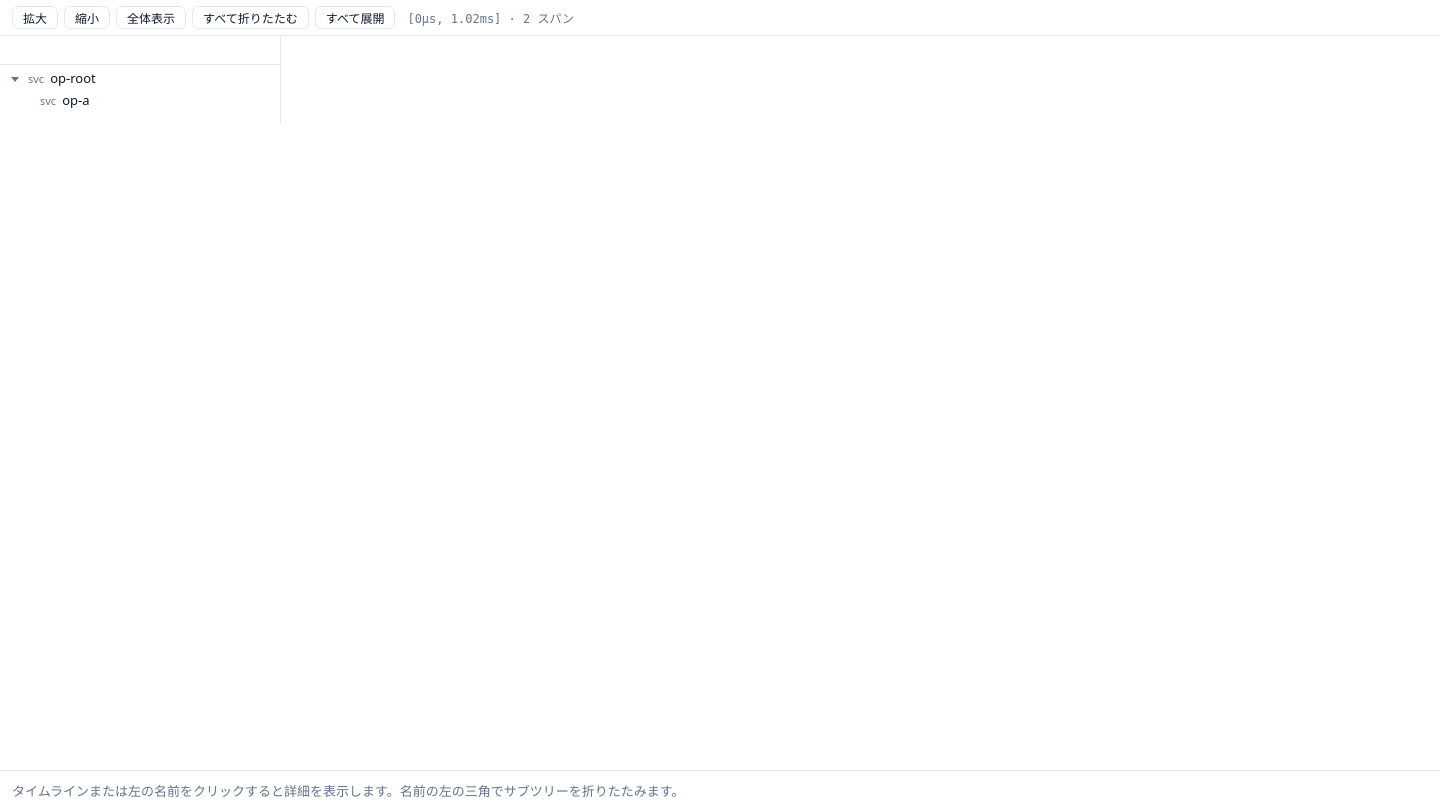
Scenario: 占位符与交互 › 切语言后按钮文案立即变，交互仍然可用
Click the button "すべて折りたたむ": (250, 18) [192, 6, 309, 29]
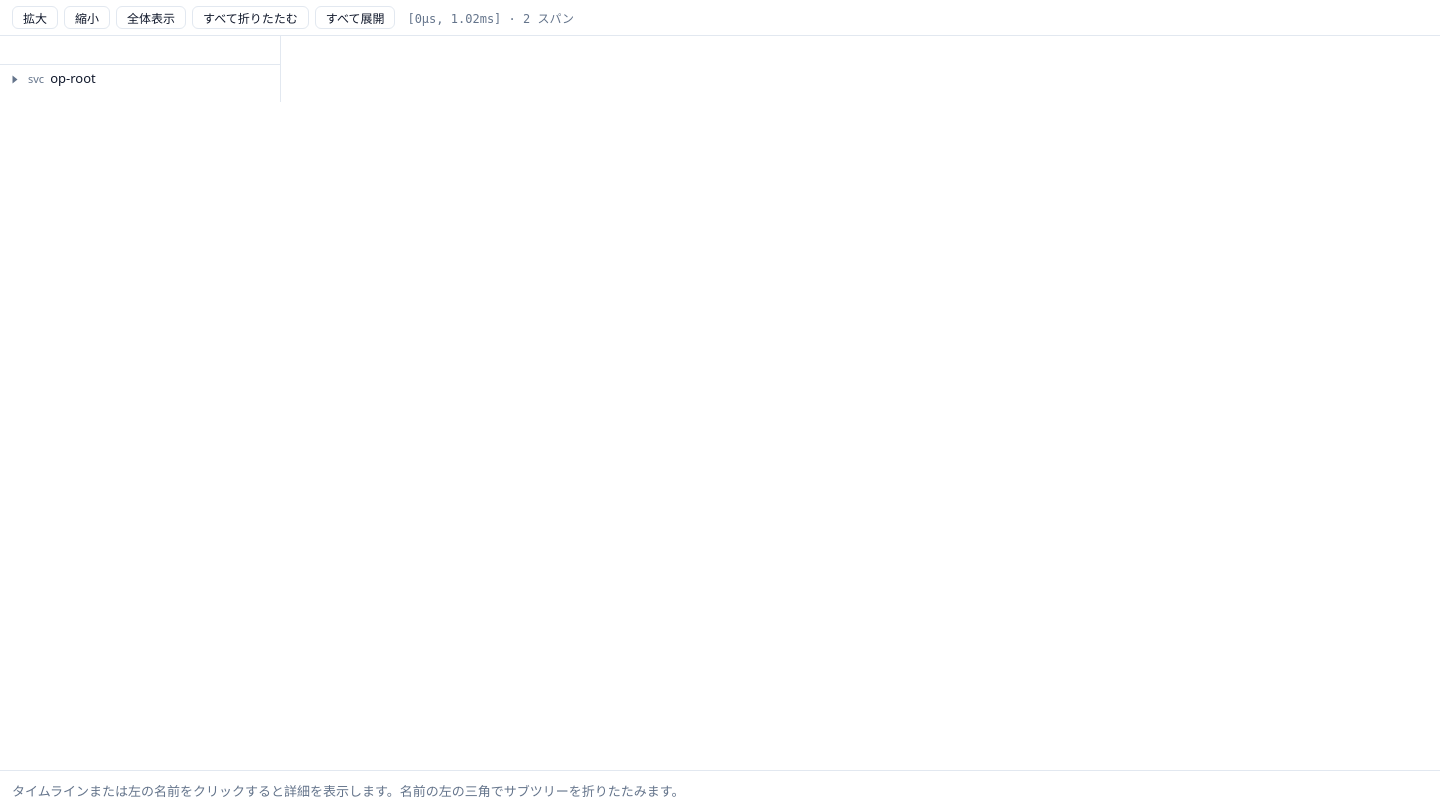
Result: the number of elements titled "svc · op-" is 1 at [8, 69, 96, 87]
